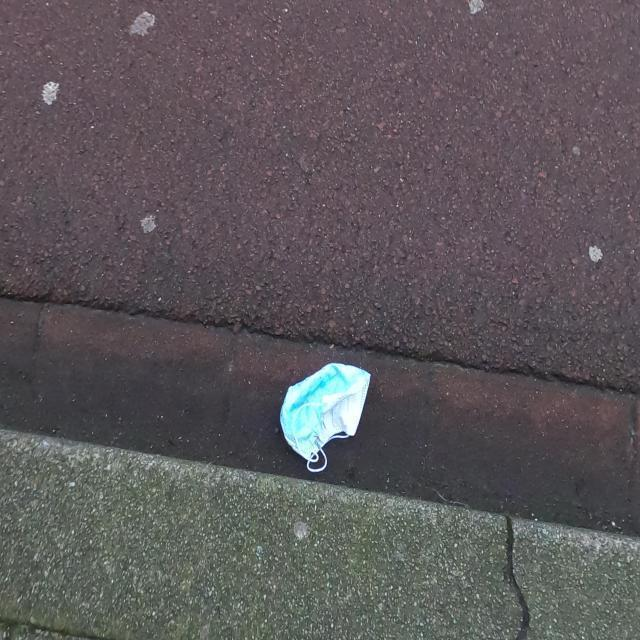Mask: (277, 360, 372, 476)
